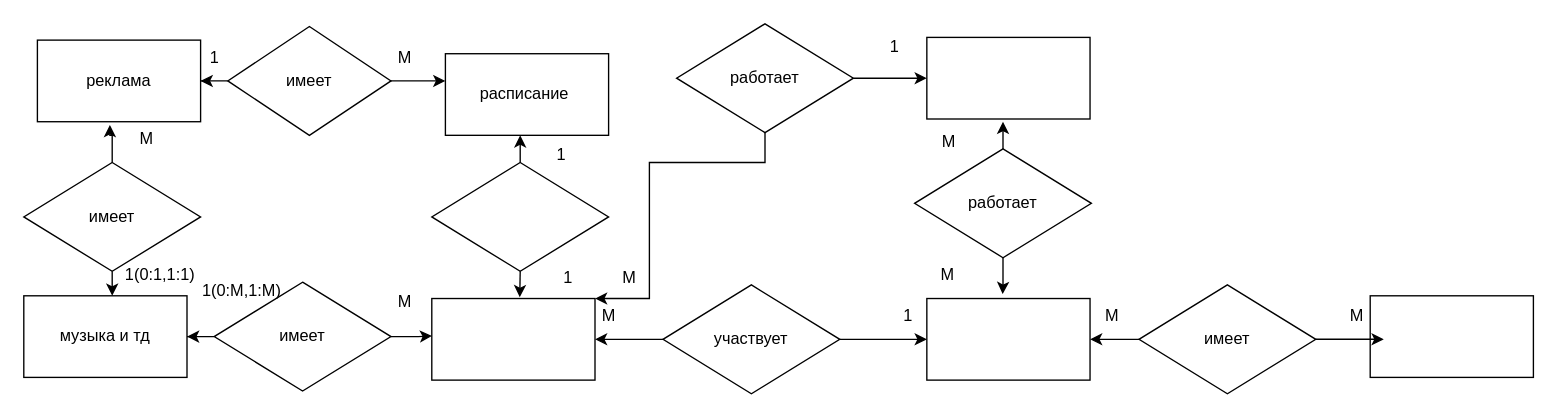
Image size: 1557x418. Some labels were removed from this diagram. The centre of each missing label's shape, as x and y in pixels:
"включает" belongs at point 519,216.
"должность" belongs at point 1451,335.
"программа" belongs at point 512,338.
"сотрудник" belongs at point 1007,338.
"тех. поддержка" belongs at point 1007,77.
